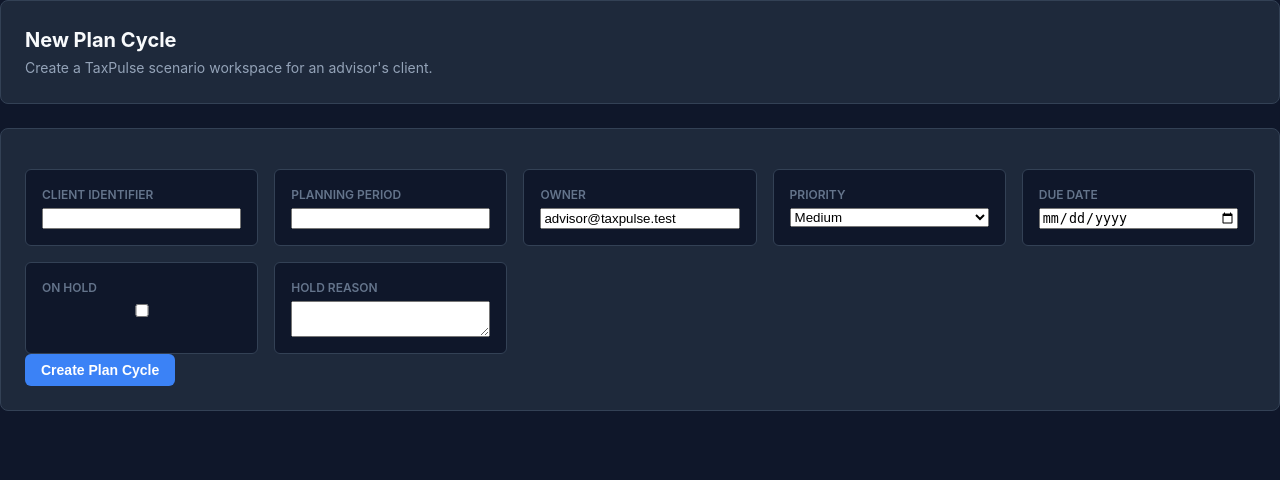
Scenario: ScenarioPlannerForm › renders shared-schema field errors and associates them to inputs
Click the button "Create Plan Cycle": x=100, y=370 [25,354,175,386]
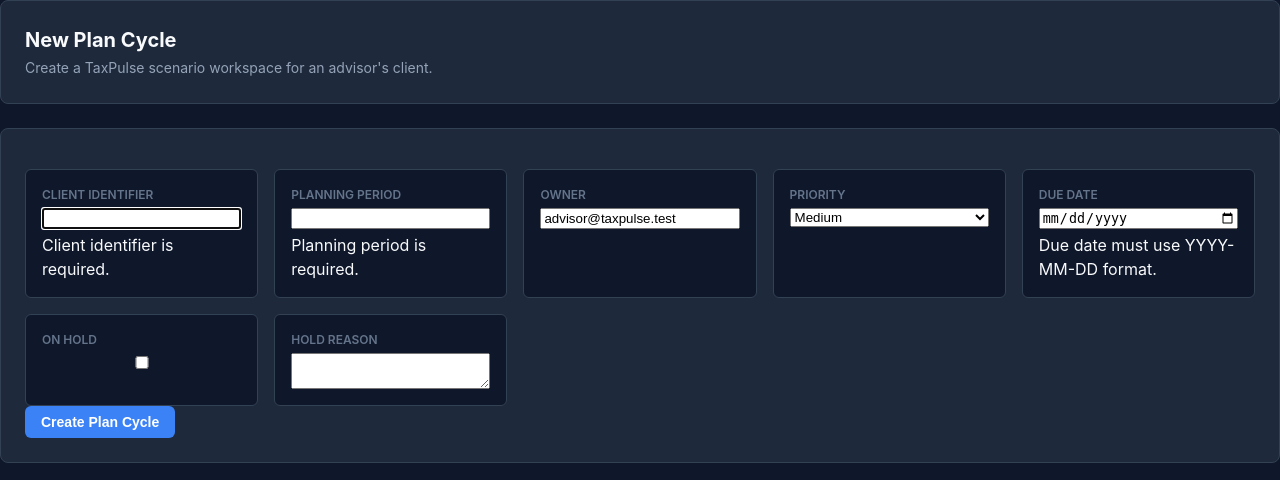
Check: the text "Client identifier is required." is shown, box [42,235,174,279]
Check: the text "Planning period is required." is shown, box [291,235,426,279]
Check: the text "Due date must use YYYY-MM-DD format." is shown, box [1039,233,1238,281]
